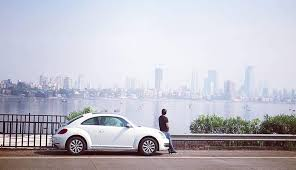car: (52, 112, 171, 155)
